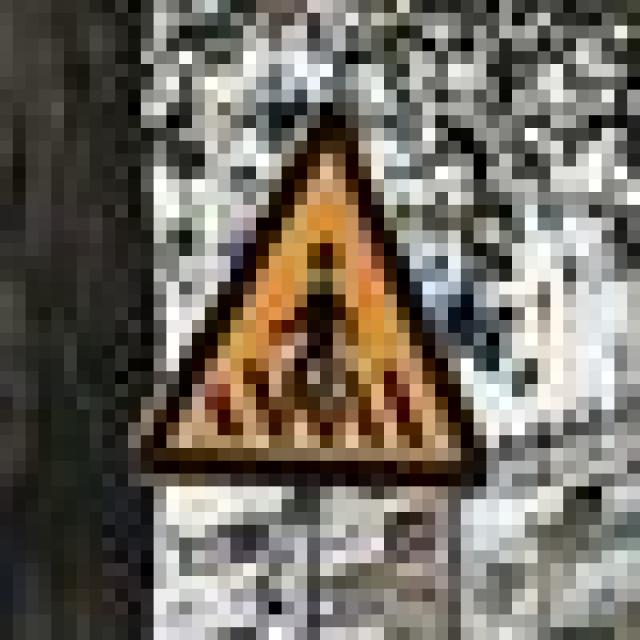pass_either_side: (116, 90, 487, 487)
